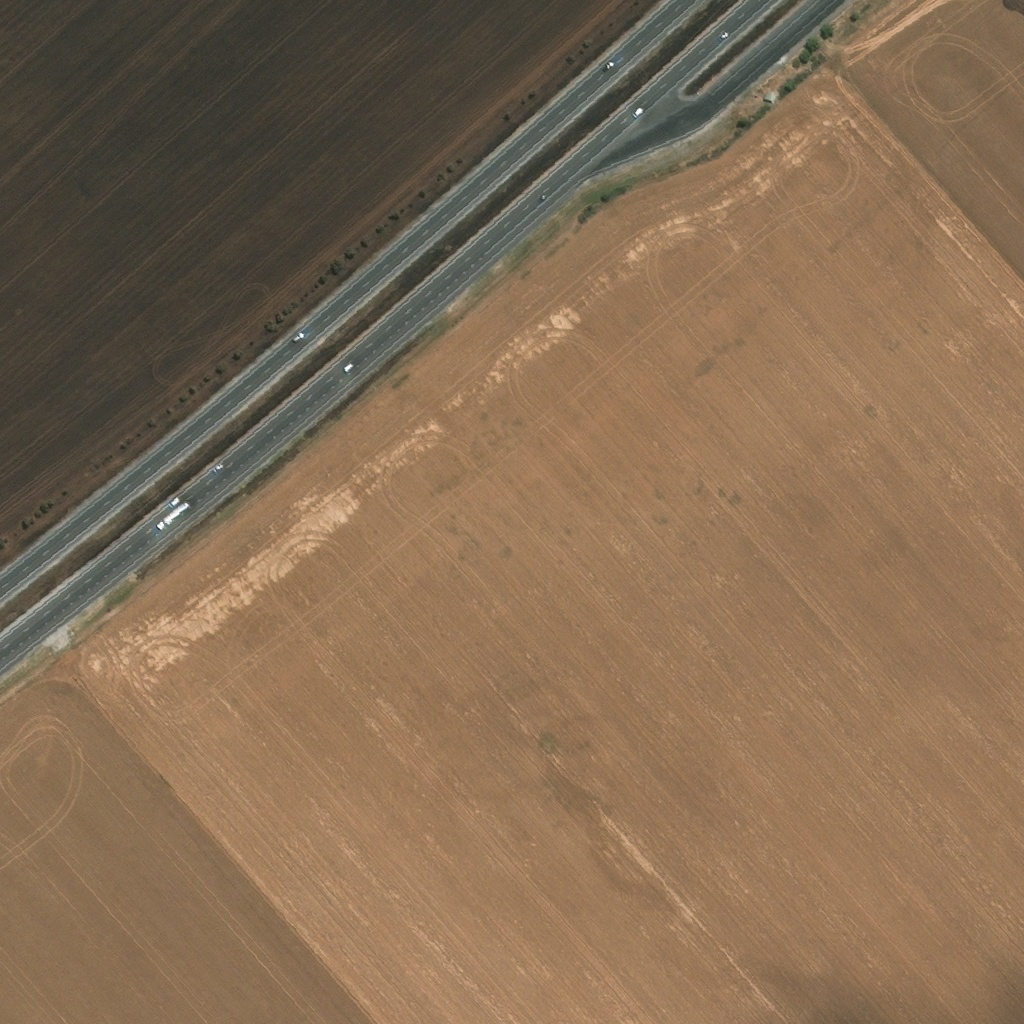0 no-damage: (764, 92, 775, 105)
